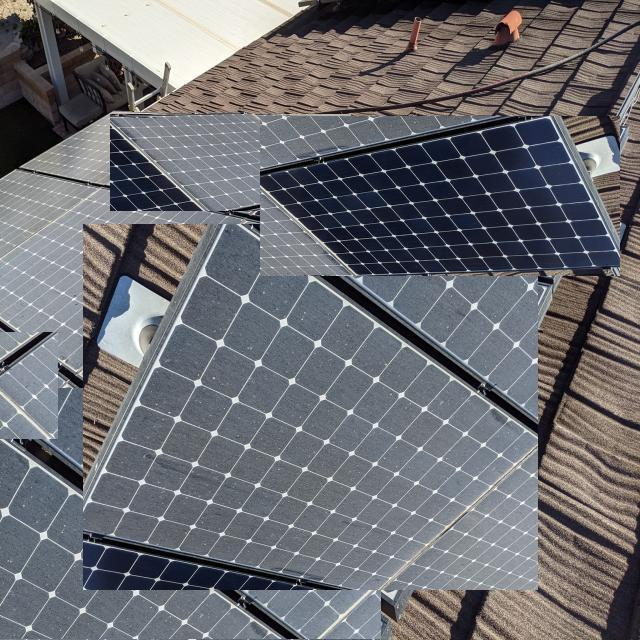Dusty: (82, 226, 538, 590), (0, 440, 289, 640), (0, 189, 238, 382), (344, 272, 538, 427), (378, 445, 539, 592), (108, 112, 262, 209), (258, 113, 499, 171), (0, 168, 102, 260), (260, 189, 353, 274), (241, 590, 382, 640), (20, 112, 109, 186), (1, 334, 58, 438), (0, 332, 46, 364)
